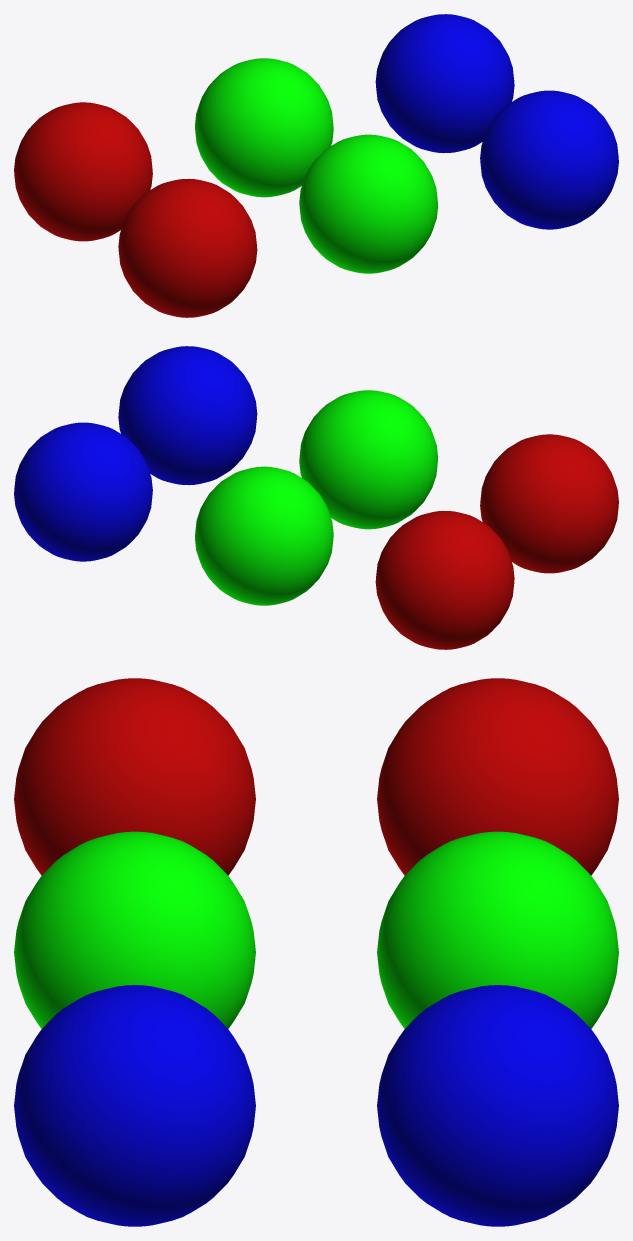
The model's file is MaxSimultaneousLights.gltf.
The picture shows the model from 3 angles, top to bottom: view 1: azimuth 30°, elevation 25°; view 2: azimuth 150°, elevation 25°; view 3: azimuth 270°, elevation 25°; orthographic projection. The views are drawn at different scales.
Visible parts, largest first — view 1: PhysicalMeshMaxLight_1, StandardSurfaceMeshMaxLight_1, StandardMeshMaxLight_1, StandardMeshMaxLight_2, PhysicalMeshMaxLight_2, StandardSurfaceMeshMaxLight_2; view 2: PhysicalMeshMaxLight_2, StandardSurfaceMeshMaxLight_2, StandardMeshMaxLight_2, StandardMeshMaxLight_1, PhysicalMeshMaxLight_1, StandardSurfaceMeshMaxLight_1; view 3: StandardSurfaceMeshMaxLight_1, StandardSurfaceMeshMaxLight_2, StandardMeshMaxLight_1, StandardMeshMaxLight_2, PhysicalMeshMaxLight_1, PhysicalMeshMaxLight_2.
Boxes of the visible parts, box(x1,y1,x2,y2) form: PhysicalMeshMaxLight_1: box(299, 134, 437, 273); StandardSurfaceMeshMaxLight_1: box(480, 90, 618, 229); StandardMeshMaxLight_1: box(118, 178, 257, 317); StandardMeshMaxLight_2: box(14, 102, 152, 241); PhysicalMeshMaxLight_2: box(195, 58, 333, 197); StandardSurfaceMeshMaxLight_2: box(375, 14, 514, 153); PhysicalMeshMaxLight_2: box(195, 466, 333, 605); StandardSurfaceMeshMaxLight_2: box(14, 422, 152, 561); StandardMeshMaxLight_2: box(375, 510, 514, 649); StandardMeshMaxLight_1: box(480, 434, 618, 573); PhysicalMeshMaxLight_1: box(299, 390, 437, 529); StandardSurfaceMeshMaxLight_1: box(118, 346, 257, 485); StandardSurfaceMeshMaxLight_1: box(14, 985, 255, 1226); StandardSurfaceMeshMaxLight_2: box(377, 985, 618, 1226); StandardMeshMaxLight_1: box(14, 678, 255, 875); StandardMeshMaxLight_2: box(377, 678, 618, 875); PhysicalMeshMaxLight_1: box(14, 831, 255, 1028); PhysicalMeshMaxLight_2: box(377, 831, 618, 1028).
Bounding box in the file's own units: 8 × 2 × 5.
